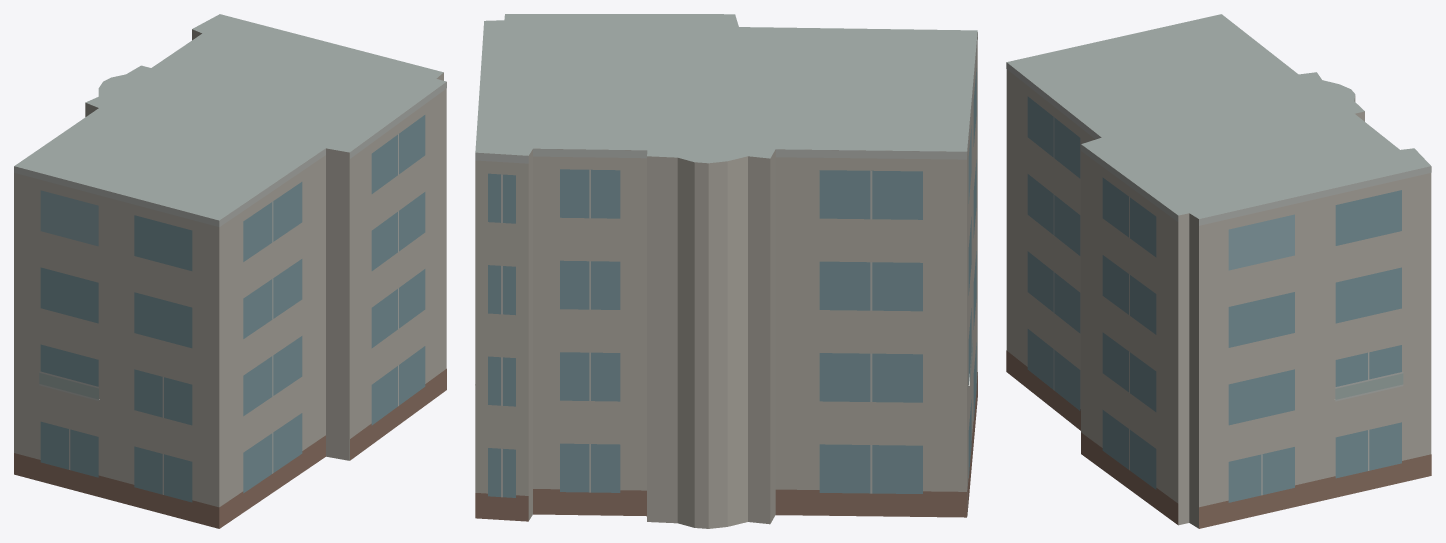
Rendered from survey-upis-32918762.glb.
3 views of the same model, side by side, from view 1: azimuth 30°, elevation 25°; view 2: azimuth 150°, elevation 25°; view 3: azimuth 270°, elevation 25° (orthographic). The views are drawn at different scales.
Parts seen in each view (by area): view 1: survey-upis-32918762.tmp; view 2: survey-upis-32918762.tmp; view 3: survey-upis-32918762.tmp.
Part boxes in pixels (bbox=[...]): survey-upis-32918762.tmp: bbox=[14, 14, 446, 528]; survey-upis-32918762.tmp: bbox=[475, 14, 977, 528]; survey-upis-32918762.tmp: bbox=[1006, 14, 1431, 528].
Size of the model in its own units: 16.06 by 11.3 by 14.06.
